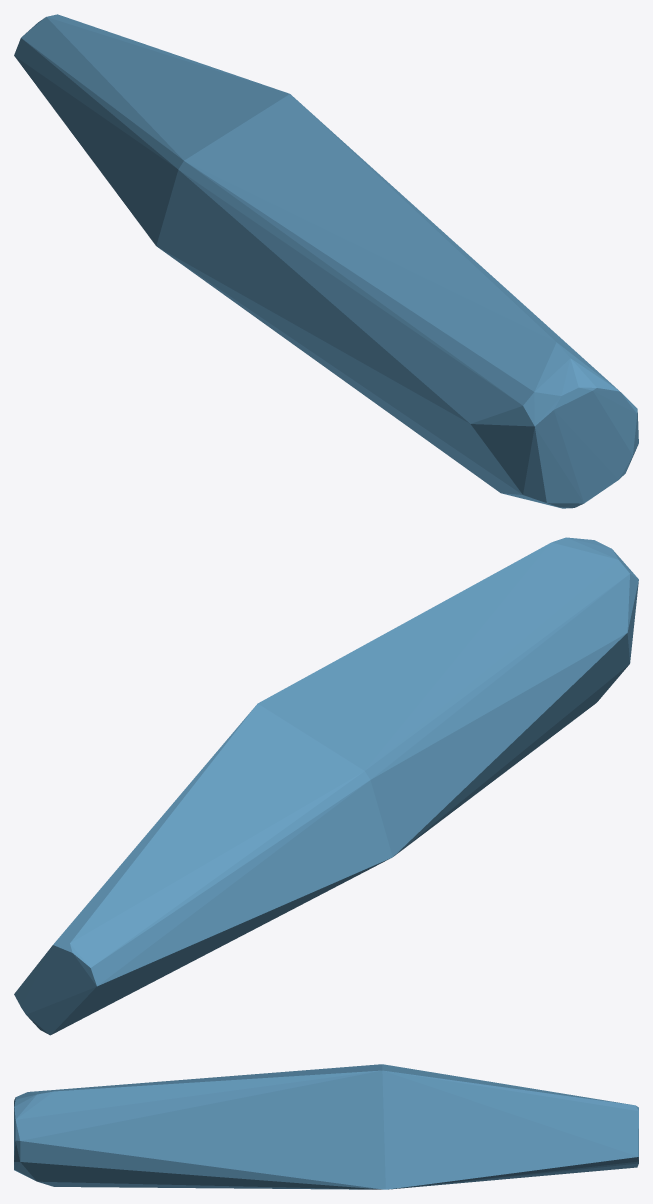
File: decor_candle_e01.glb
3 views of the same model, one above another, from view 1: azimuth 30°, elevation 25°; view 2: azimuth 150°, elevation 25°; view 3: azimuth 270°, elevation 25° (orthographic). The views are drawn at different scales.
Visible parts, largest first — view 1: geometry_0; view 2: geometry_0; view 3: geometry_0.
Part boxes in pixels (bbox=[...]): geometry_0: bbox=[14, 14, 638, 508]; geometry_0: bbox=[14, 537, 638, 1035]; geometry_0: bbox=[14, 1064, 638, 1189].
Size of the model in its own units: 0.1183 by 0.0947 by 0.48.
